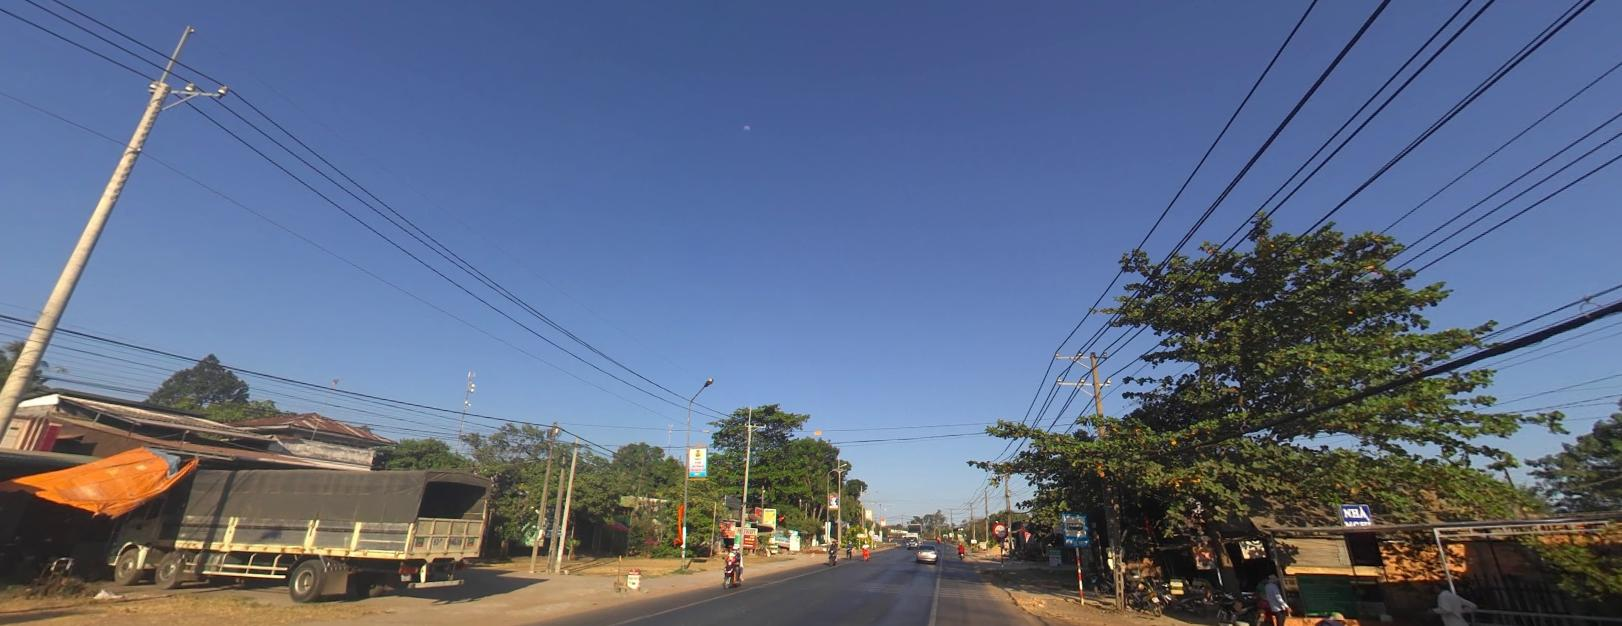Cam con lai: (993, 521, 1008, 537), (993, 521, 1007, 538)
